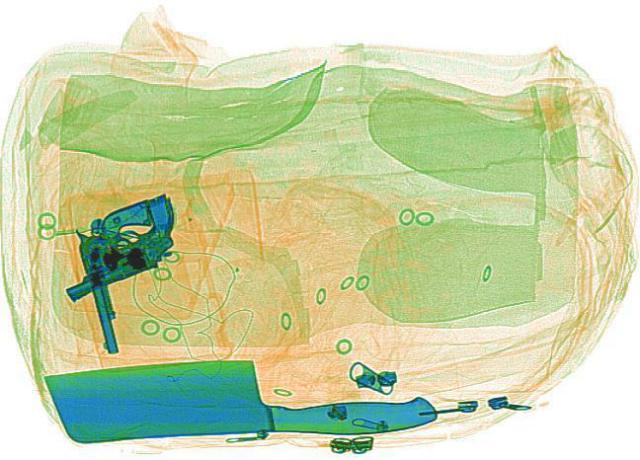Gun: (27, 190, 214, 312), (68, 193, 194, 353)
Knife: (44, 342, 436, 453)
